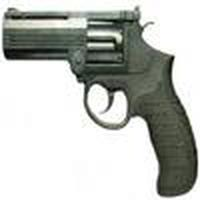gun: (3, 10, 200, 196)
